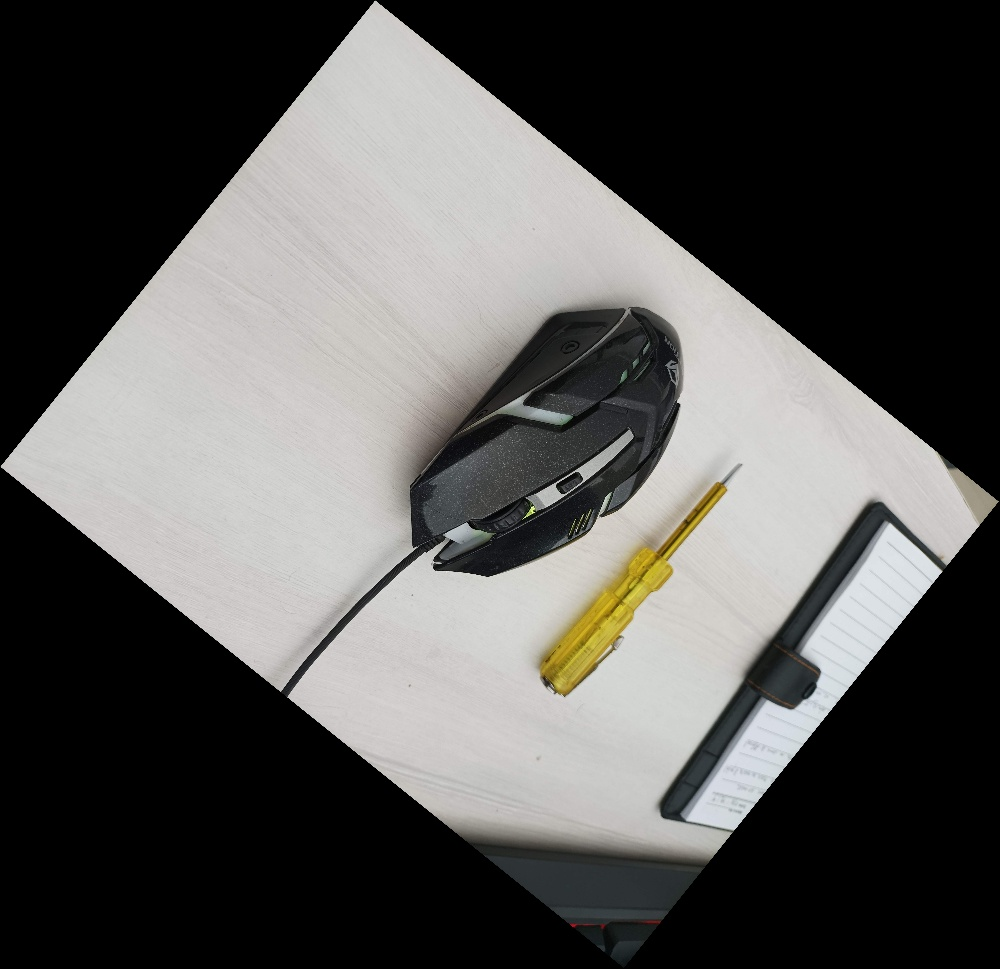mouse: (406, 302, 685, 581)
screwdriver: (535, 460, 748, 701)
